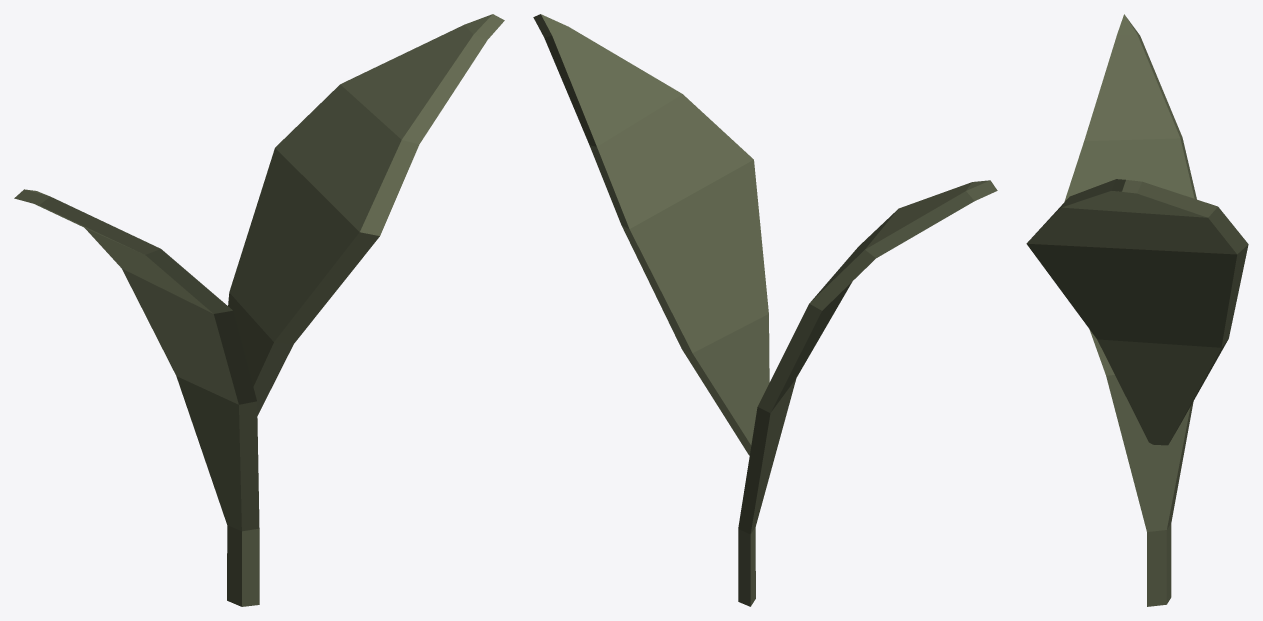
File: lettuce.glb
3 views of the same model, side by side, from view 1: azimuth 30°, elevation 25°; view 2: azimuth 150°, elevation 25°; view 3: azimuth 270°, elevation 25° (orthographic). The views are drawn at different scales.
Visible parts, largest first — view 1: Lettuce_1; view 2: Lettuce_1; view 3: Lettuce_1.
Part boxes in pixels (x1=…): Lettuce_1: x1=14, y1=14, x2=504, y2=606; Lettuce_1: x1=533, y1=14, x2=997, y2=606; Lettuce_1: x1=1026, y1=14, x2=1248, y2=606.
Size of the model in its own units: 0.2761 by 0.2941 by 0.111.
